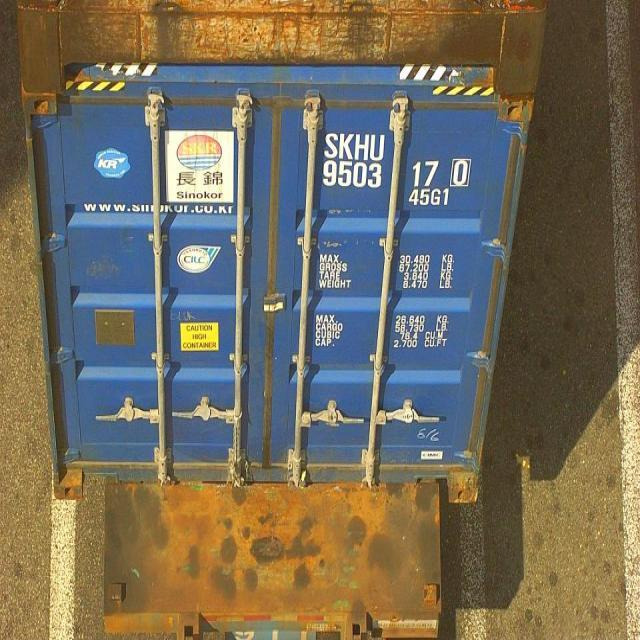ISO: (409, 187, 450, 210)
container_number: (323, 130, 481, 189)
